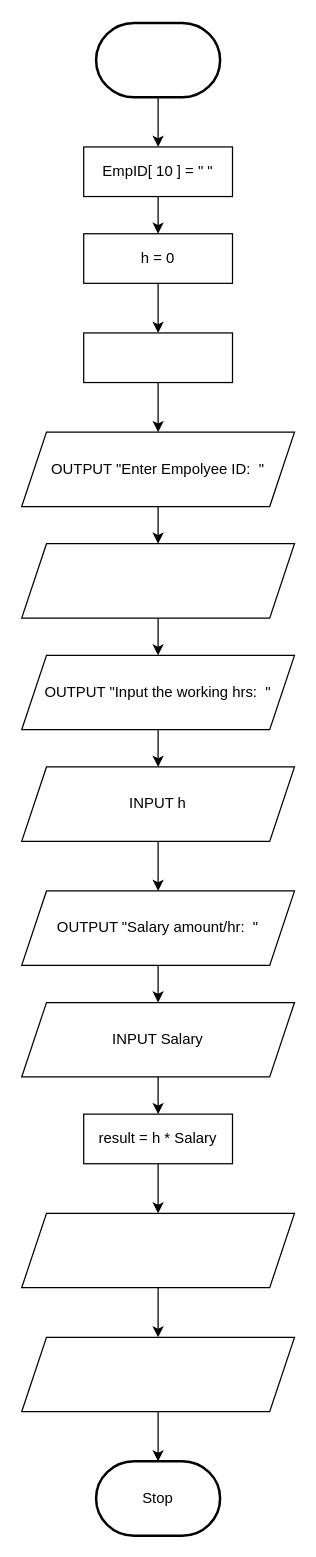
Image size: 316x1557. Some labels were removed from this diagram. Each missing label, with the centre of its shape:
INPUT EmpID: (157,580)
OUTPUT "Employees ID = " EmpID: (157,1250)
OUTPUT "Salary = u$ " result: (157,1374)
Salary = 0: (157,357)
Start: (157,59)
